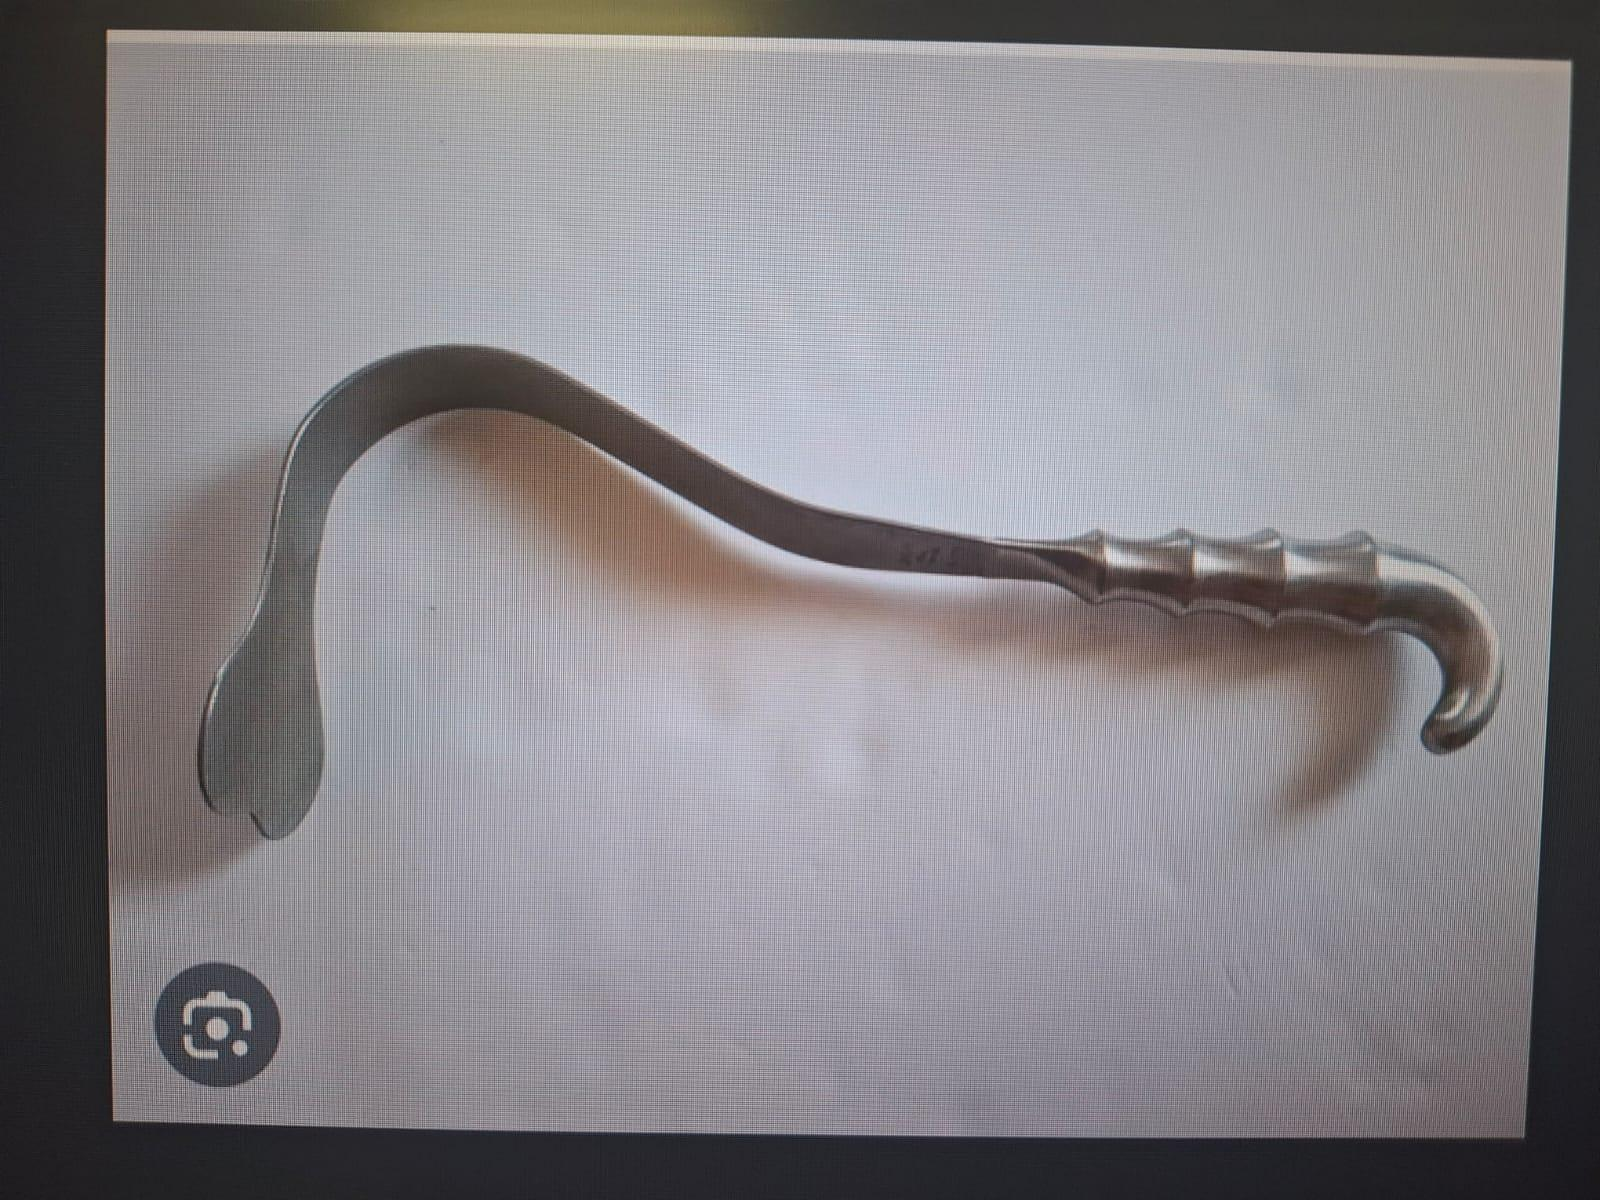Harrington Retractor: (170, 320, 1518, 855)
